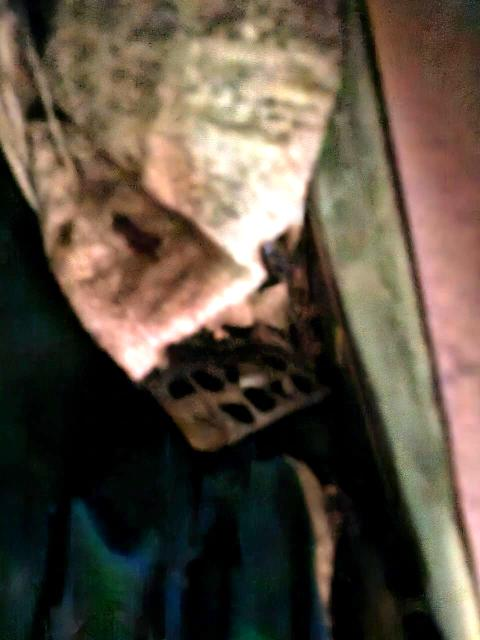medicine: (152, 295, 336, 462)
